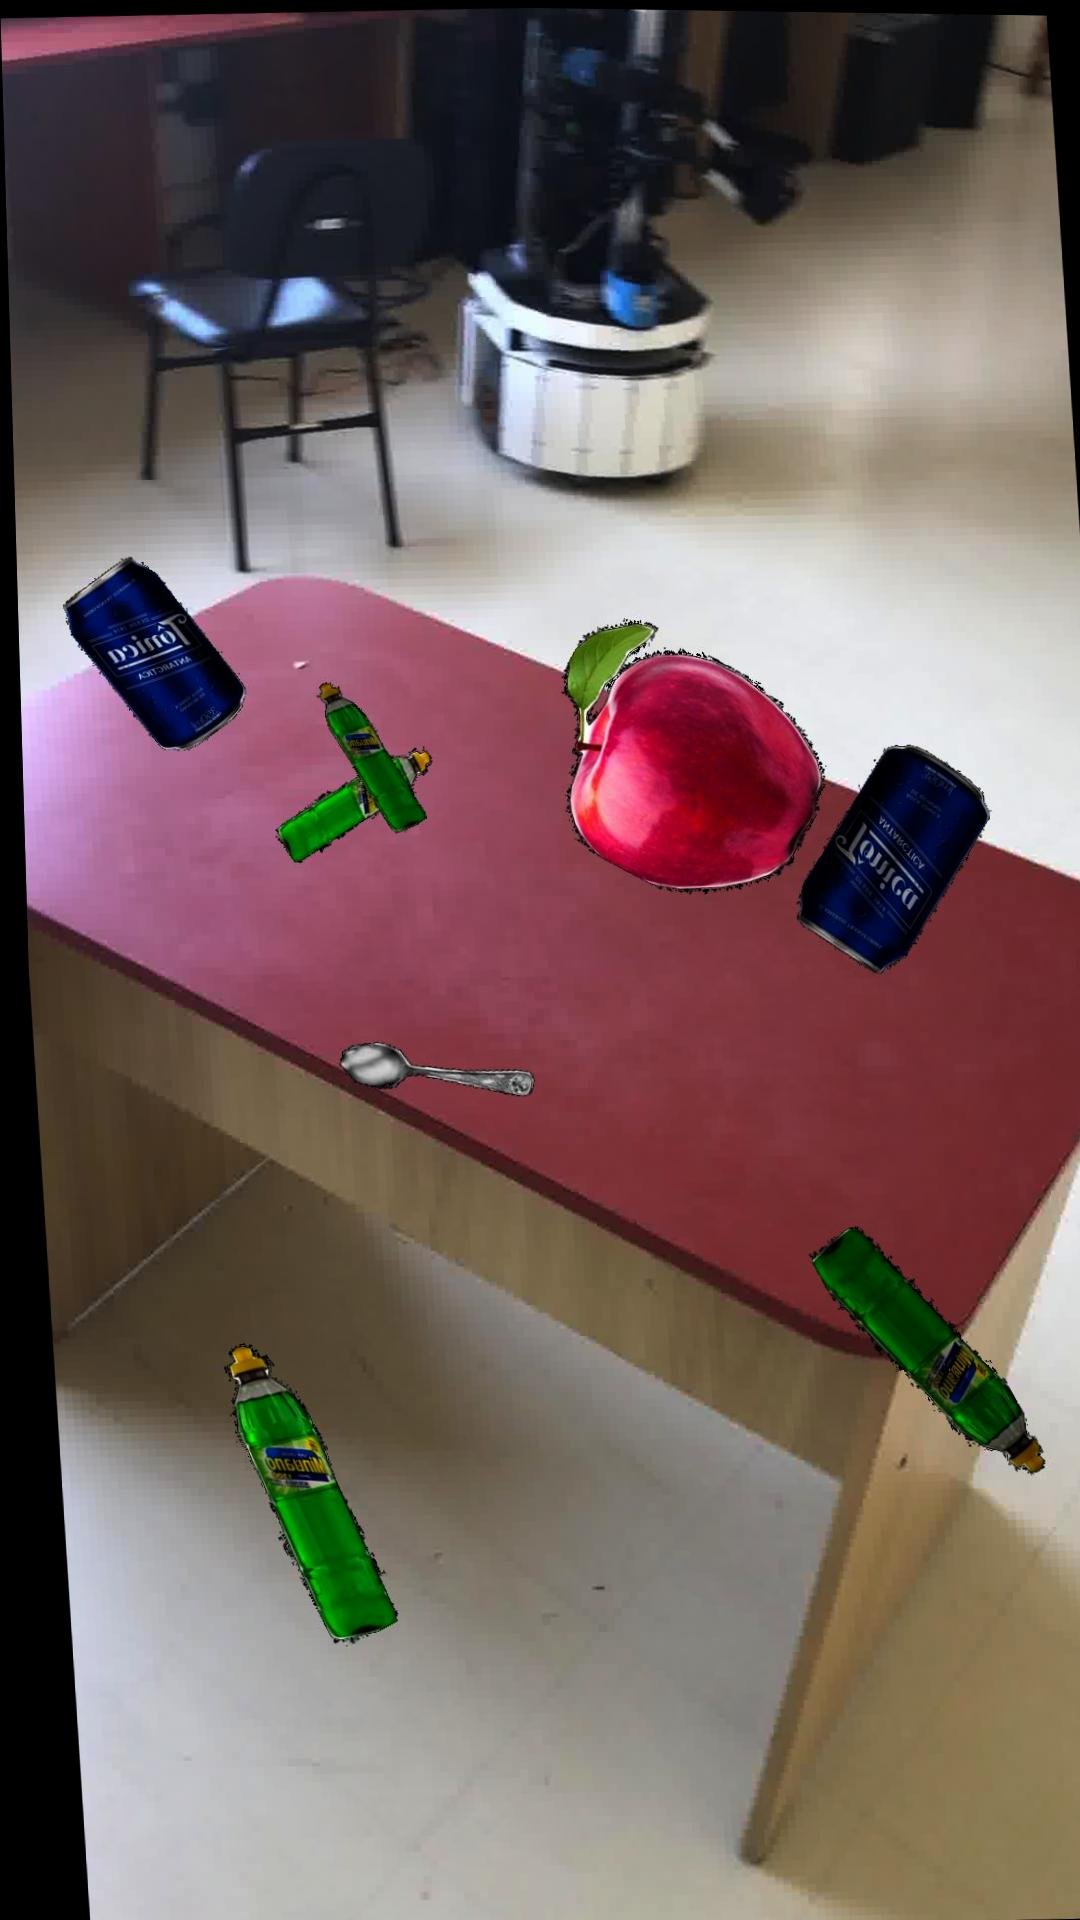apple: (558, 617, 816, 890)
cleaner: (803, 1222, 1034, 1469), (218, 1341, 386, 1642), (314, 680, 419, 831)
spoon: (331, 1039, 526, 1093)
tonic: (790, 741, 982, 969), (58, 555, 240, 749)
